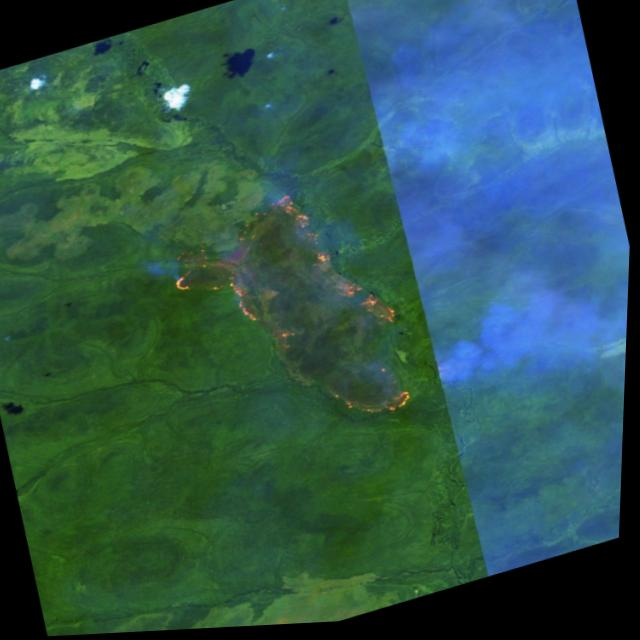fire: (150, 168, 431, 473)
